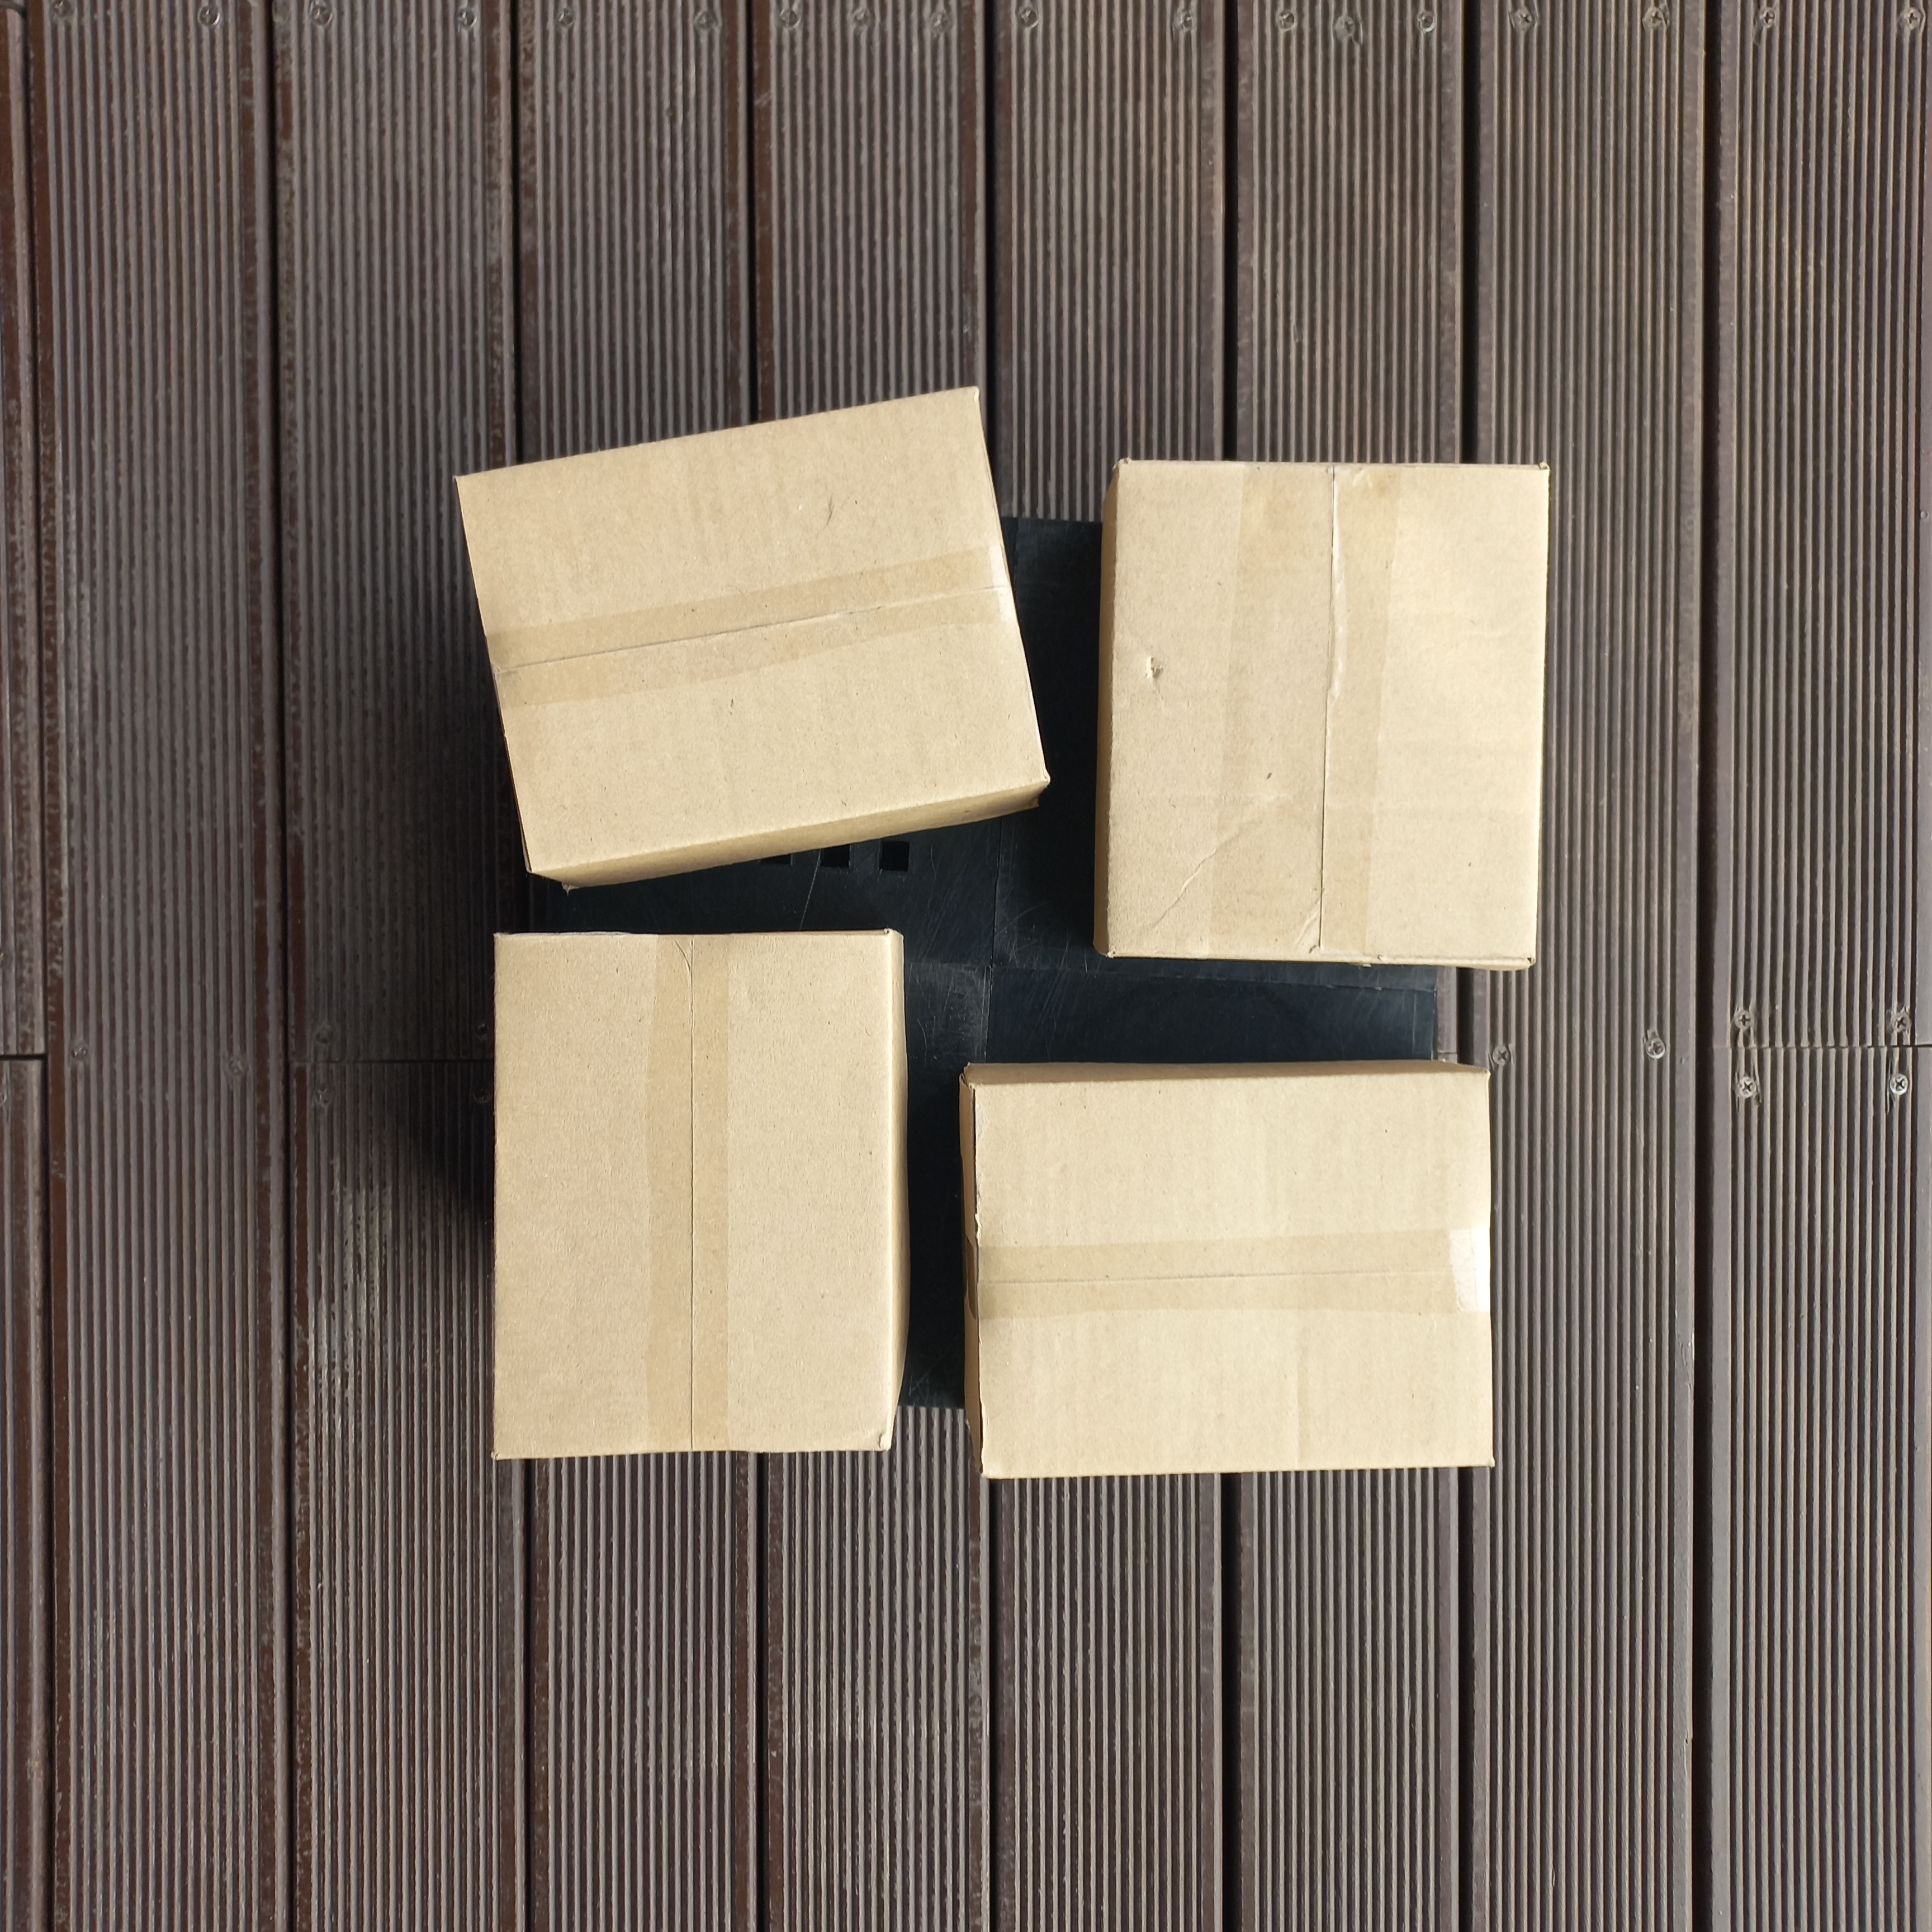box: (446, 389, 1051, 890), (1092, 453, 1559, 973), (966, 1063, 1497, 1483), (490, 929, 902, 1461)
